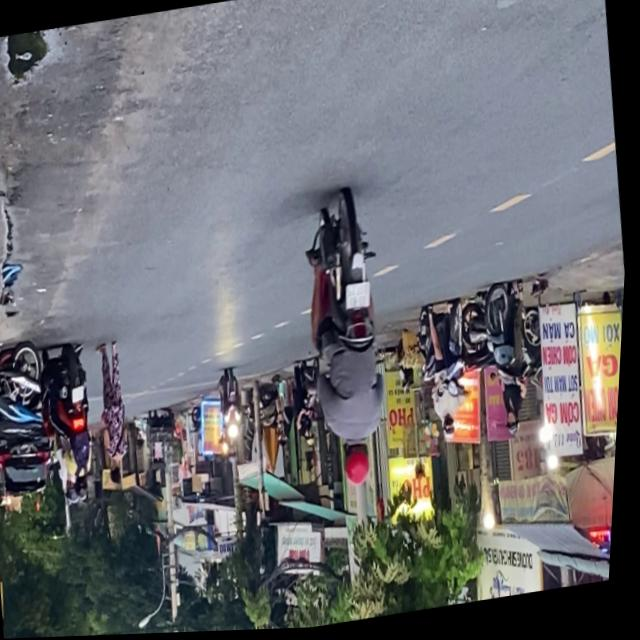helmet: (347, 442, 380, 490), (508, 409, 528, 440), (68, 478, 85, 506), (447, 420, 463, 447), (79, 476, 95, 503)
licenseplate: (288, 188, 414, 497), (36, 339, 111, 512), (473, 280, 547, 445), (413, 299, 486, 451)
nohelmet: (347, 284, 375, 314), (76, 387, 91, 403)
